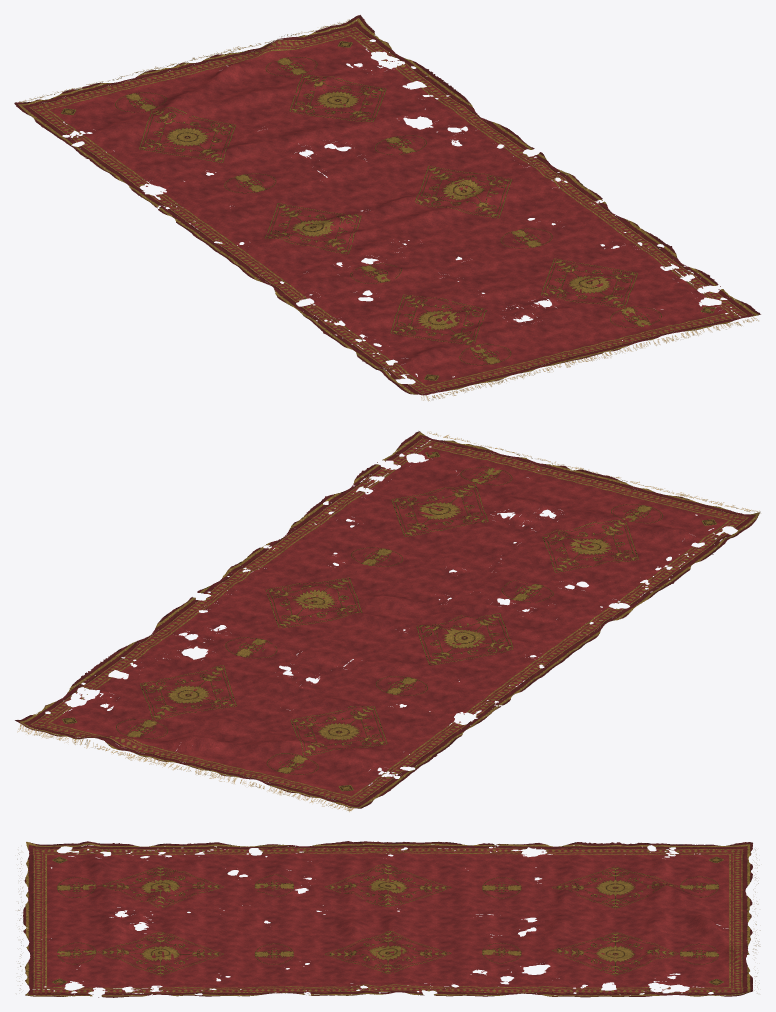
The model's file is SM_Cripta_Tapete_Grande.glb.
3 views of the same model, one above another, from view 1: azimuth 30°, elevation 25°; view 2: azimuth 150°, elevation 25°; view 3: azimuth 270°, elevation 25° (orthographic). The views are drawn at different scales.
Visible parts, largest first — view 1: SM_Cripta_Tapete; view 2: SM_Cripta_Tapete; view 3: SM_Cripta_Tapete.
Part boxes in pixels (bbox=[...]): SM_Cripta_Tapete: bbox=[14, 15, 760, 401]; SM_Cripta_Tapete: bbox=[15, 431, 760, 811]; SM_Cripta_Tapete: bbox=[17, 841, 760, 997].
Bounding box in the file's own units: 8 × 0.246 × 16.39.
Materials: 5 (4 with a texture image).
